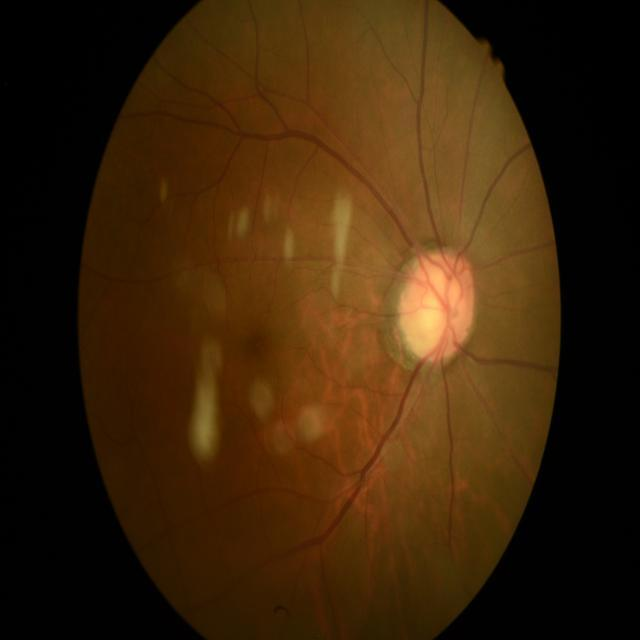cup: (413, 265, 463, 347)
disk: (402, 248, 476, 364)
